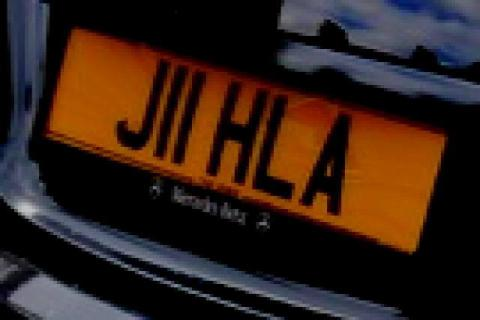LicensePlate: (47, 11, 452, 255)
